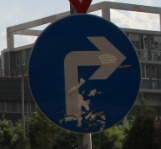right_turn: (27, 13, 140, 134)
